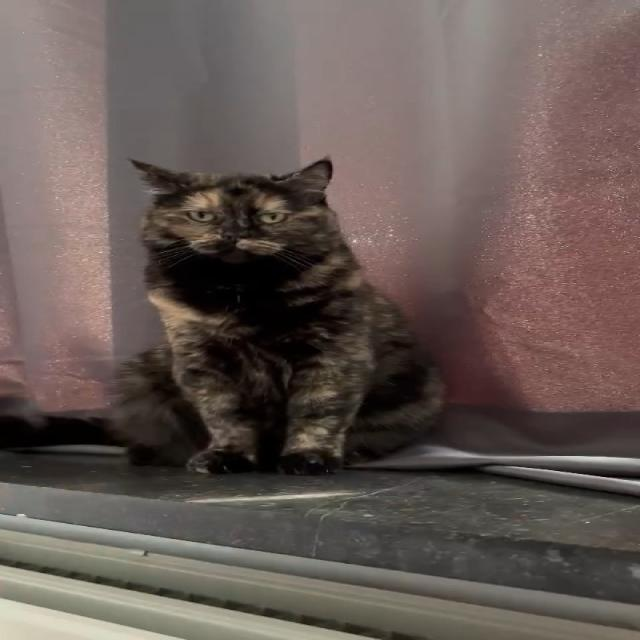authorized: (105, 154, 447, 476)
